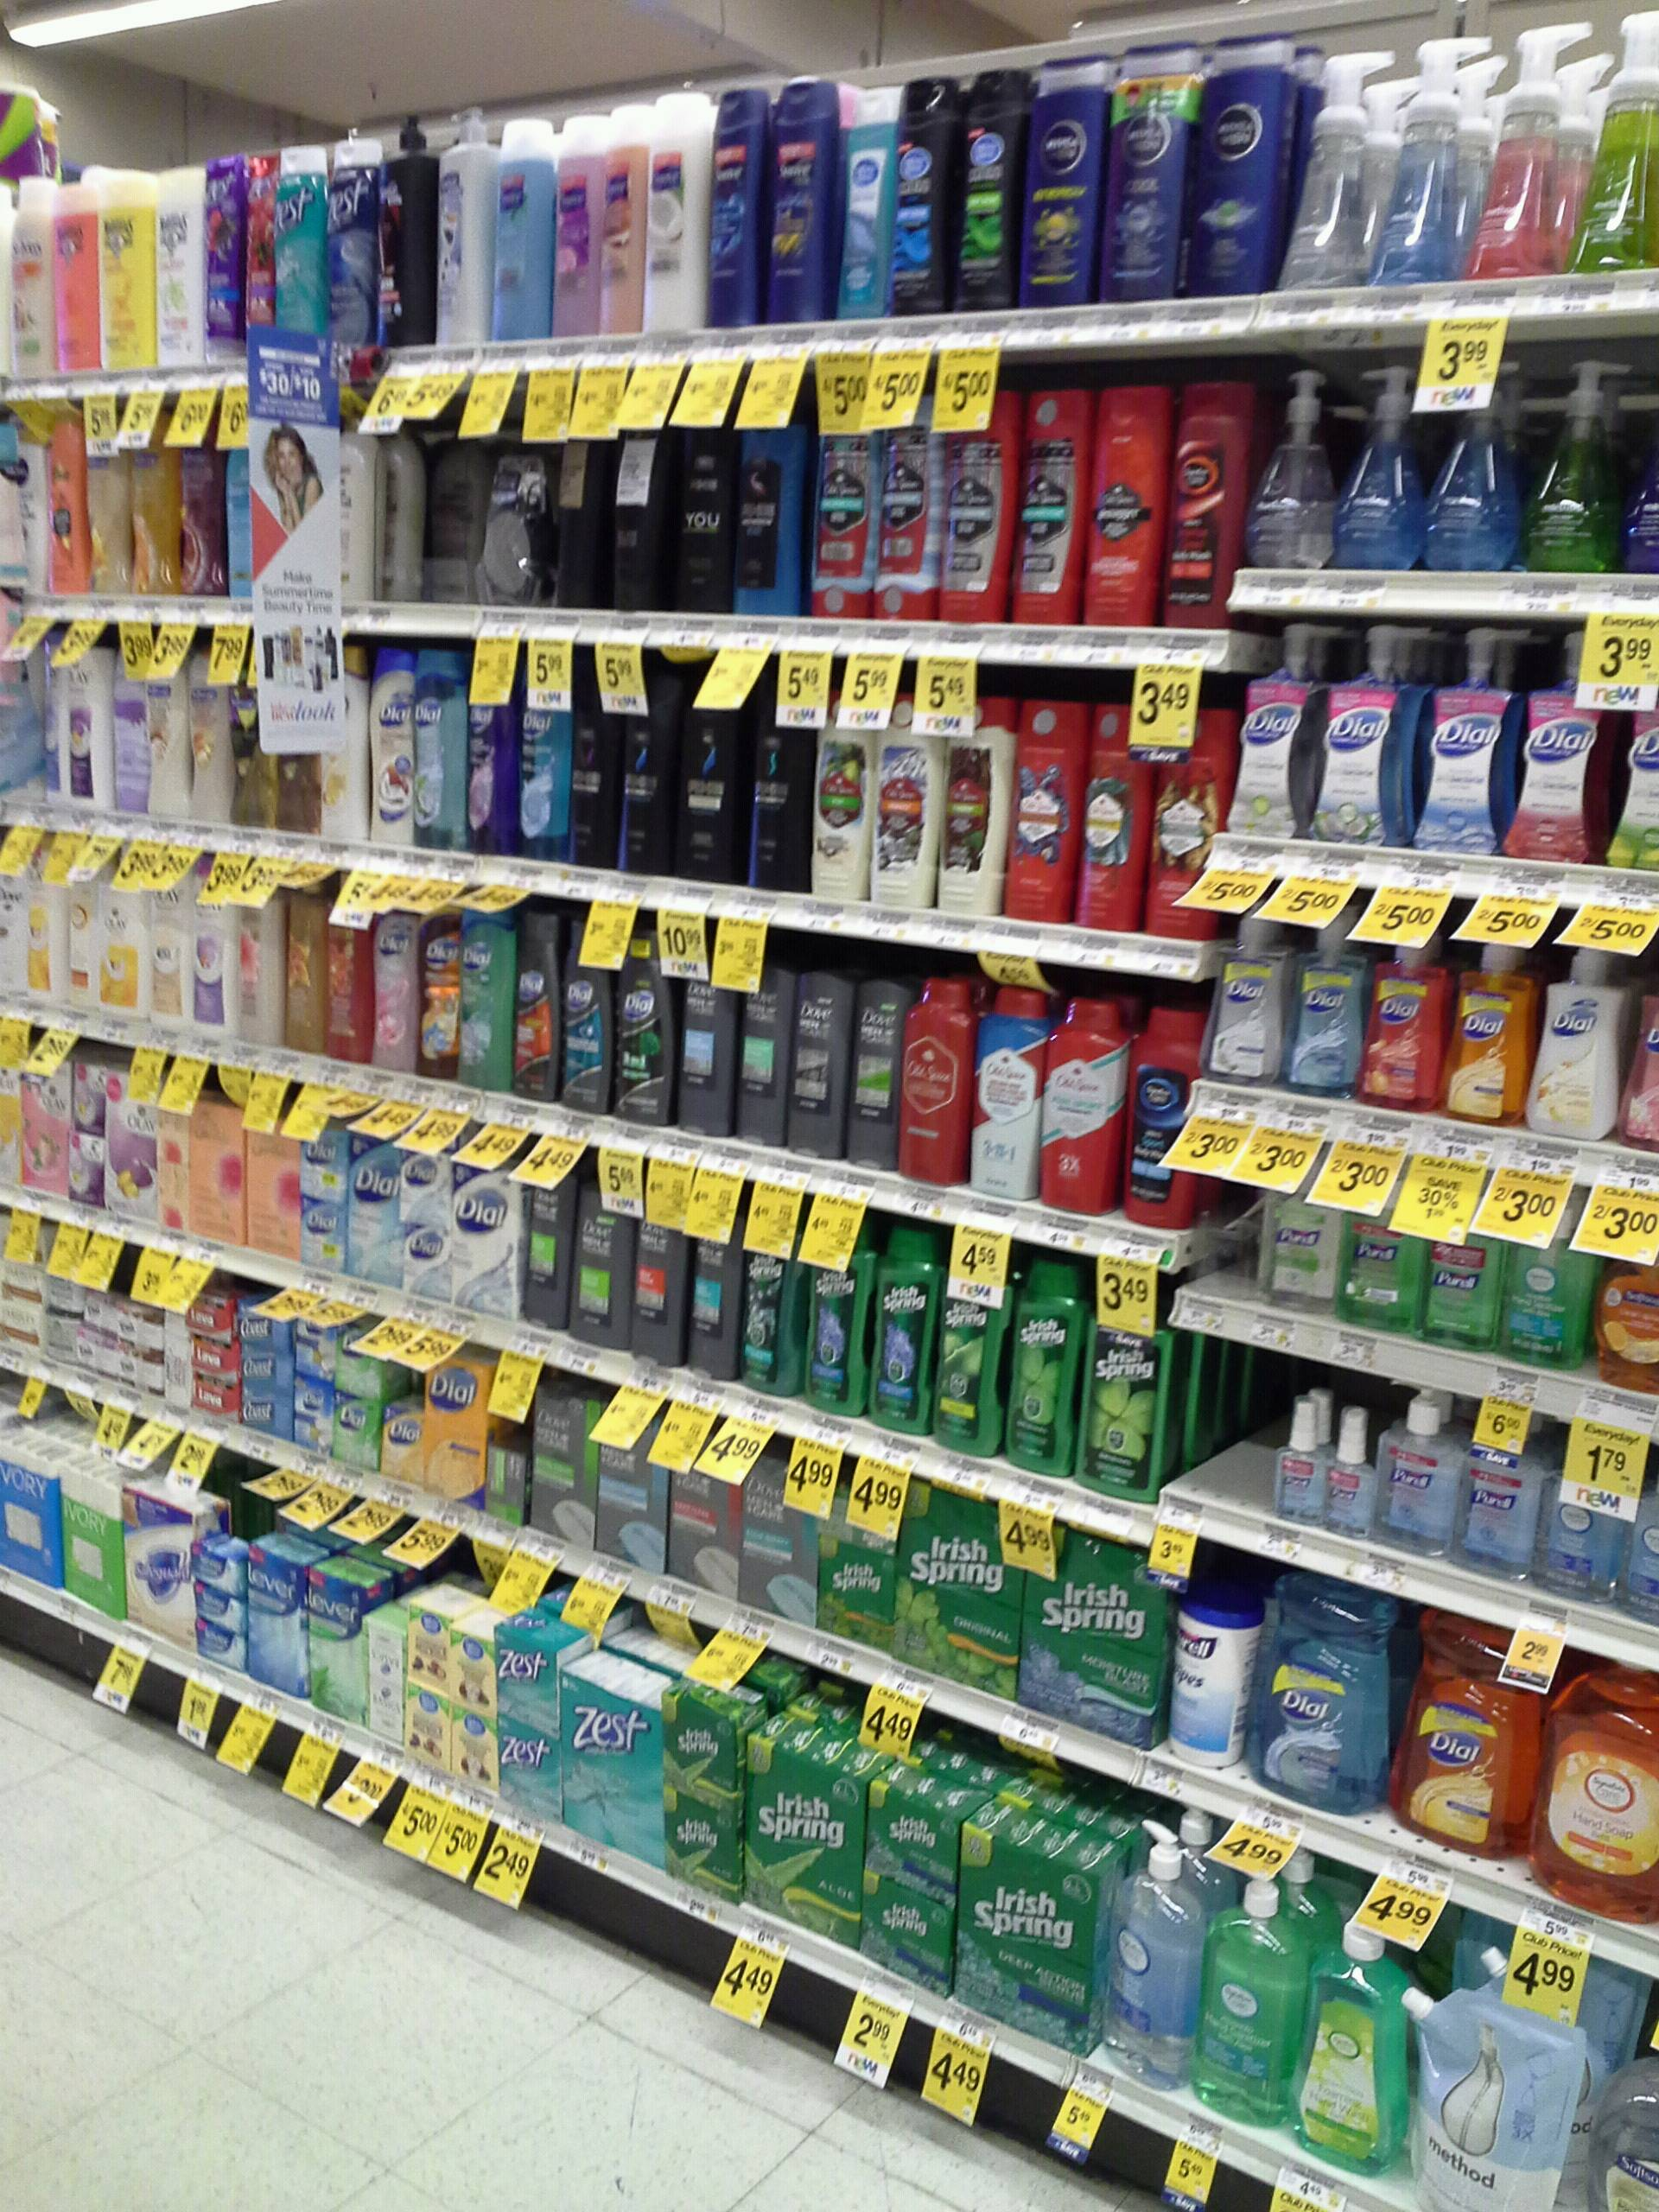Out-of-stock: (1176, 1327, 1274, 1510)
